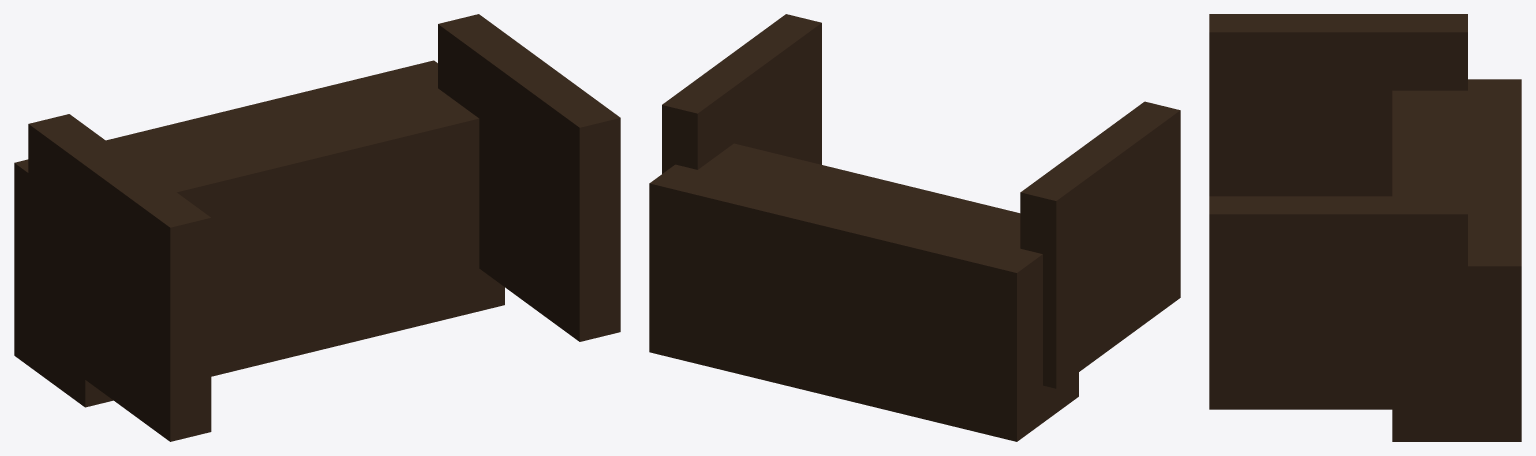
Rendered from acc_beard.glb.
3 views of the same model, side by side, from view 1: azimuth 30°, elevation 25°; view 2: azimuth 150°, elevation 25°; view 3: azimuth 270°, elevation 25° (orthographic). The views are drawn at different scales.
Parts seen in each view (by area): view 1: acc_beard__mesh; view 2: acc_beard__mesh; view 3: acc_beard__mesh.
Part boxes in pixels (x1,y1,x2,y2): acc_beard__mesh: (14, 14, 620, 441); acc_beard__mesh: (649, 14, 1180, 441); acc_beard__mesh: (1209, 14, 1521, 441).
Size of the model in its own units: 0.22 by 0.12 by 0.145.
